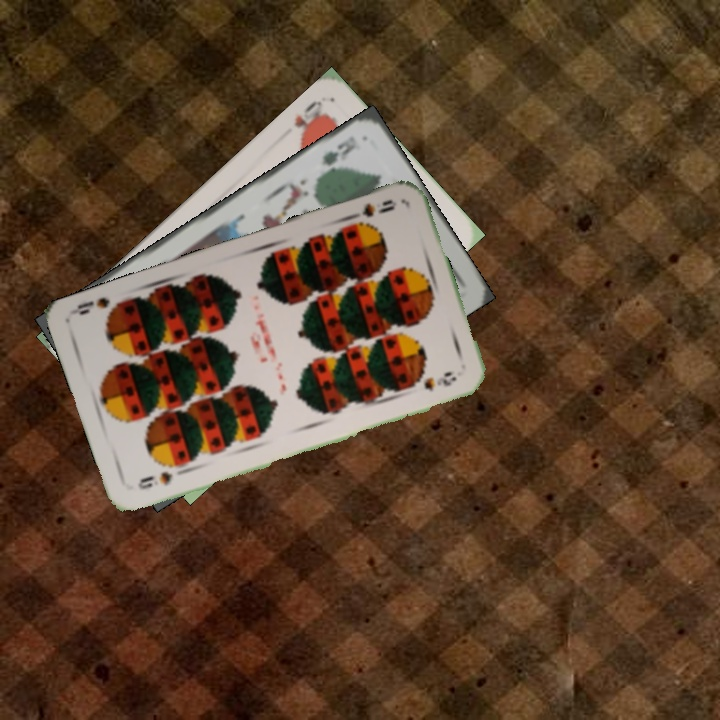GK: (316, 131, 360, 178)
HO: (290, 96, 329, 142)
S9: (133, 461, 188, 493), (343, 195, 399, 223)
